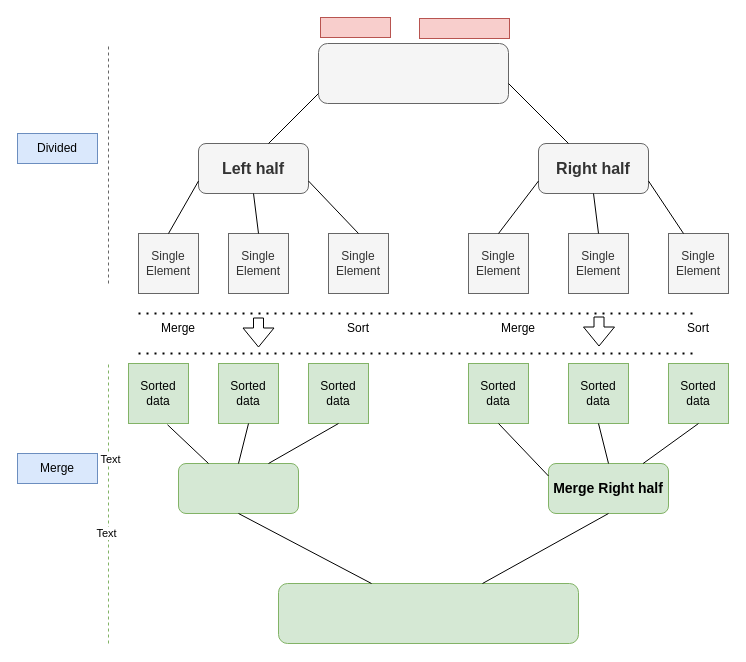
Image size: 746x662. Some labels were removed from this diagram. Here are the shapes that lost their labels. From the top down, the centre of each, then its label:
At (x=355, y=27): "(Low bound)".
At (x=464, y=28): "(upper bound)".
At (x=413, y=73): "Unsorted data (array)".
At (x=238, y=488): "Mege Left half".
At (x=428, y=613): "Single Element Sorted data (array)".
